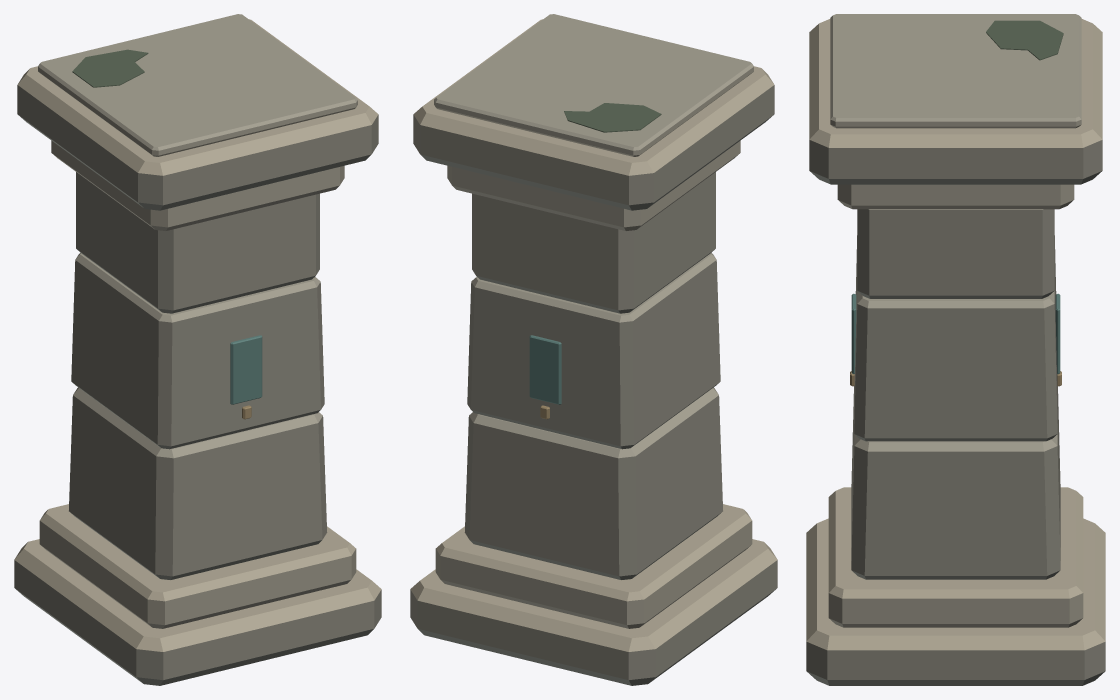
Rendered from pillar-small.glb.
3 renders of one model, left to right at view 1: azimuth 30°, elevation 25°; view 2: azimuth 150°, elevation 25°; view 3: azimuth 270°, elevation 25°, orthographic. The views are drawn at different scales.
Parts seen in each view (by area): view 1: pillar-small; view 2: pillar-small; view 3: pillar-small.
Part boxes in pixels (<box>): pillar-small: <box>14,14,381,685</box>; pillar-small: <box>410,14,777,685</box>; pillar-small: <box>806,14,1105,685</box>.
Size of the model in its own units: 0.7143 by 1.48 by 0.7143.
